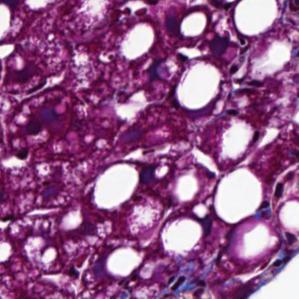inflammation: (190, 30, 237, 64), (165, 269, 207, 299), (126, 158, 166, 186)
